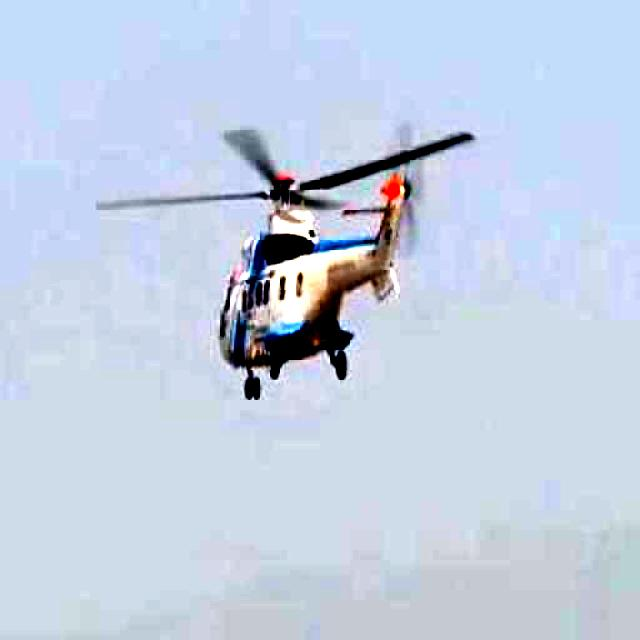drone: (104, 109, 486, 408)
